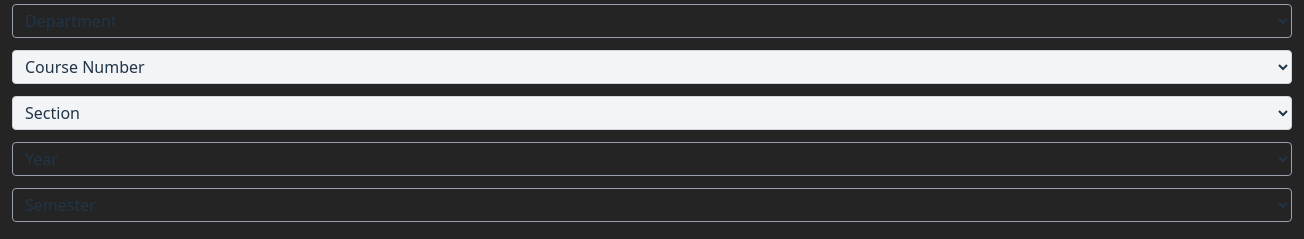
it: DeptCodeCourseNumSectionYearSemesterDropdownContainer › disables dependent selects until parent is chosen and loads course numbers
Expected: the 2nd dropdown is disabled, x1=12 y1=50 x2=1292 y2=84
Expected: the 3rd dropdown is disabled, x1=12 y1=96 x2=1292 y2=130
Select "COSC" in the 1st dropdown at coordinates (652, 21), box x1=12 y1=4 x2=1292 y2=38
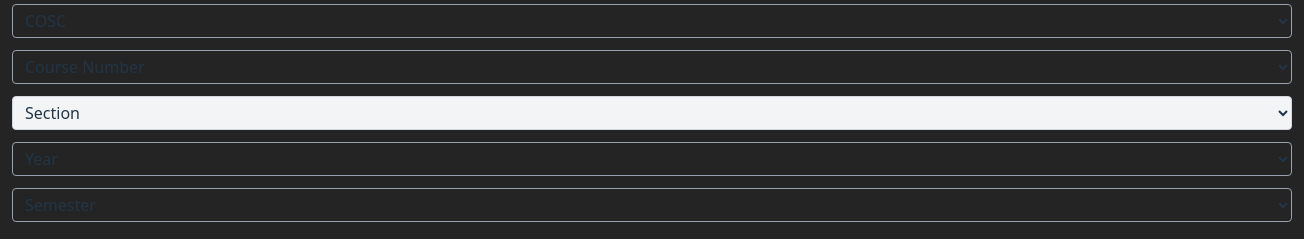
Expected: the 2nd dropdown is enabled, x1=12 y1=50 x2=1292 y2=84
